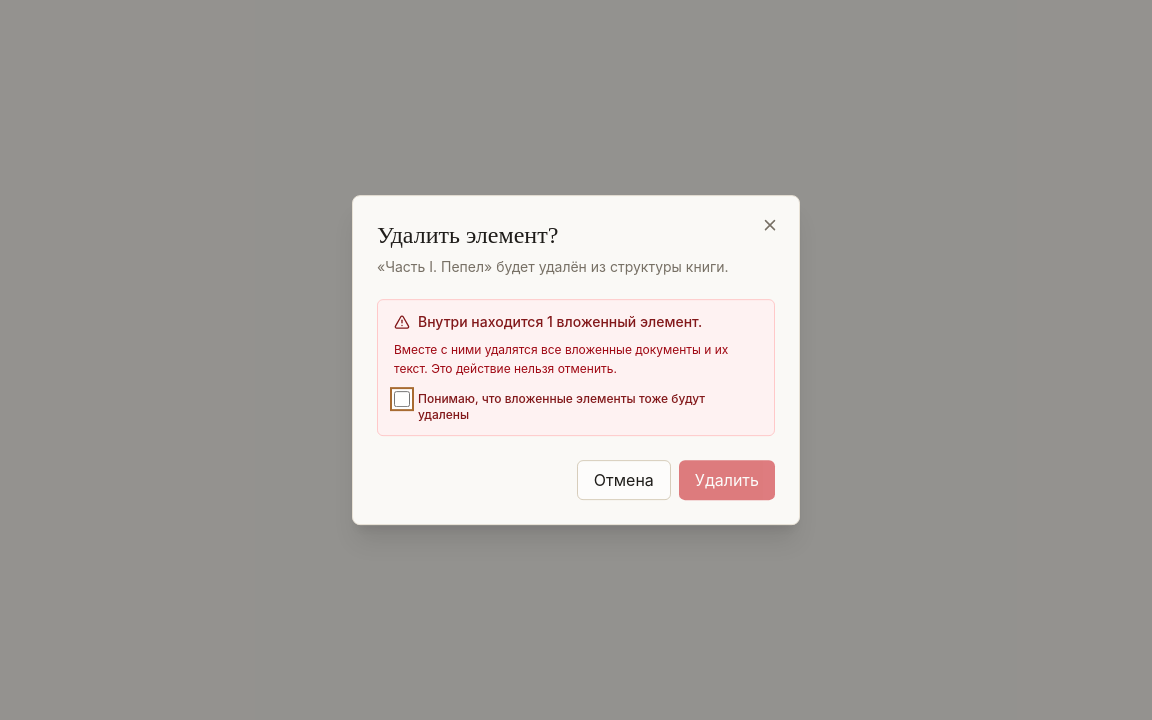
it: NodeDeleteDialog › requires explicit confirmation before cascading to children
The width and height of the screenshot is (1152, 720).
Expected: the text "Внутри находится 1 вложенный элемент." is shown, [394,313,702,330]
Expected: the button "Удалить" is disabled, [679,460,775,500]
Click the checkbox labelled "Понимаю, что вложенные элементы тоже будут удалены".
click(402, 399)  # box [394,391,410,407]
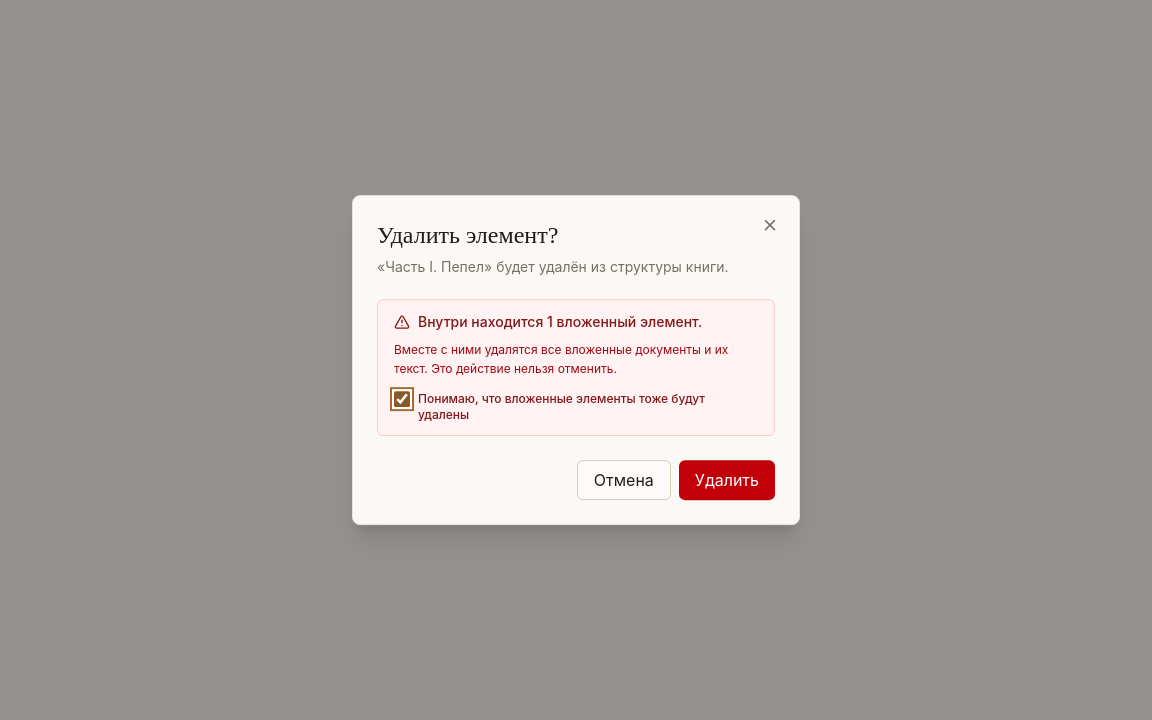
Now the button "Удалить" is enabled, box [679,460,775,500]
